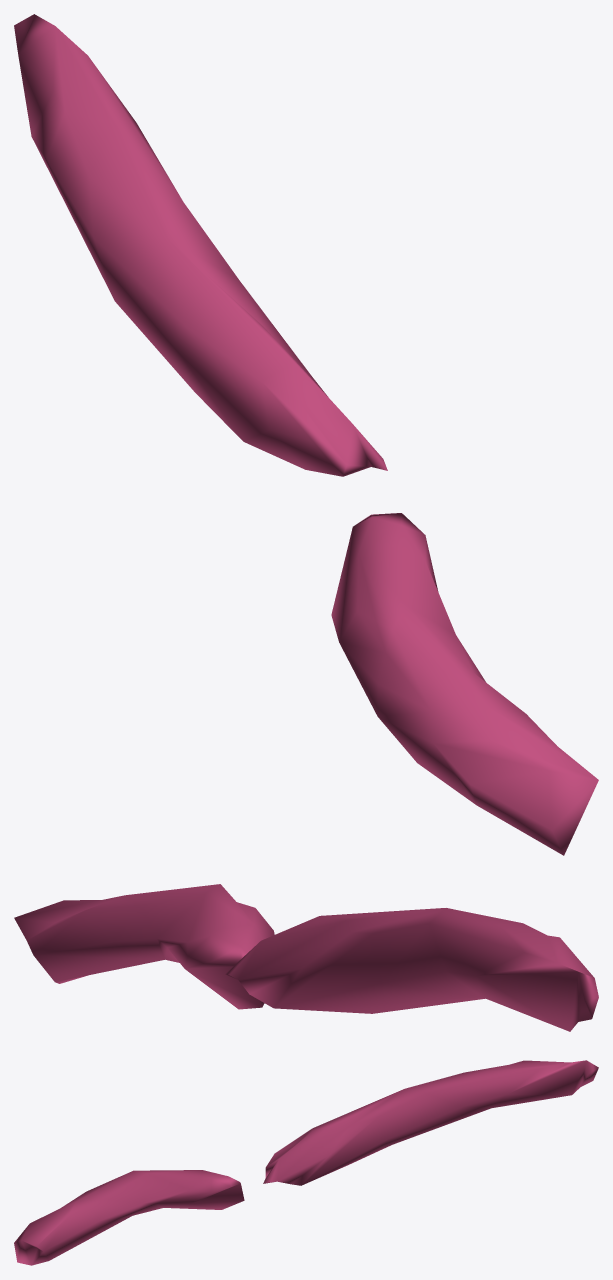
3 views of the same model, one above another, from view 1: azimuth 30°, elevation 25°; view 2: azimuth 210°, elevation 25°; view 3: azimuth 270°, elevation 25° (orthographic). The views are drawn at different scales.
Visible parts, largest first — view 1: 右侧胸棘间肌; view 2: 右侧胸棘间肌; view 3: 右侧胸棘间肌.
Part boxes in pixels (x1=…): 右侧胸棘间肌: x1=14, y1=14, x2=598, y2=855; 右侧胸棘间肌: x1=14, y1=884, x2=598, y2=1031; 右侧胸棘间肌: x1=14, y1=1060, x2=598, y2=1265.
Size of the model in its own units: 0.0104 by 0.0266 by 0.0661.
